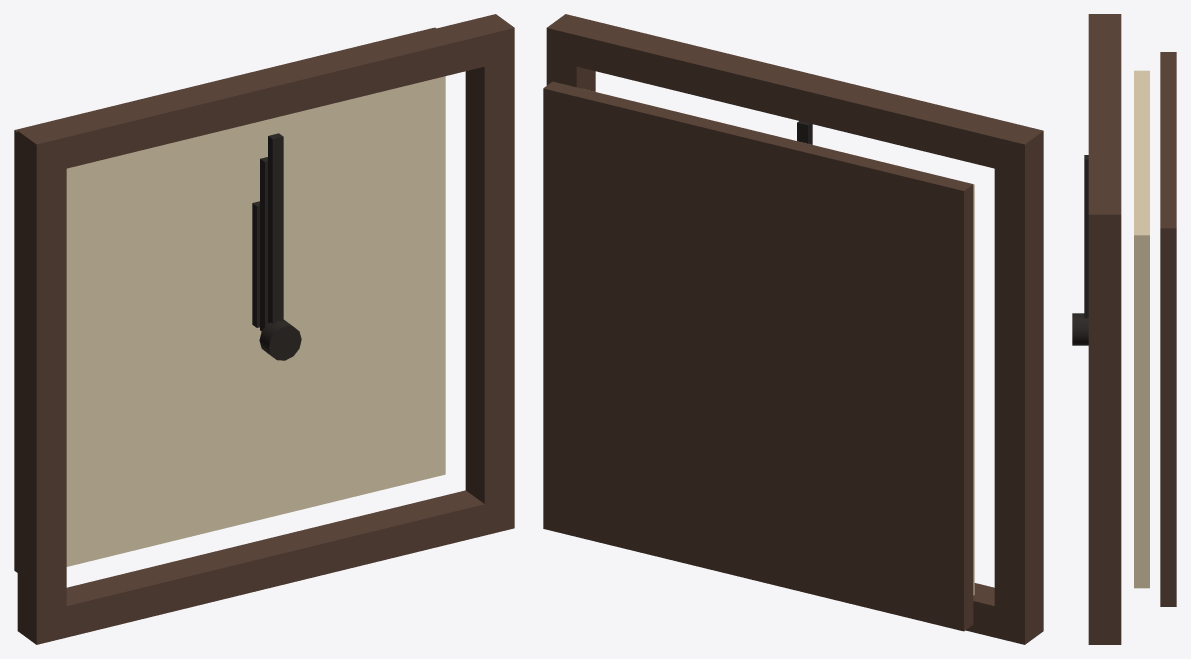
3 renders of one model, left to right at view 1: azimuth 30°, elevation 25°; view 2: azimuth 150°, elevation 25°; view 3: azimuth 270°, elevation 25°, orthographic. The views are drawn at different scales.
Visible parts, largest first — view 1: clock-face, clock-square-top, clock-square-bottom, clock-square-left, clock-square-right, clock-second-hand, clock-back, clock-minute-hand, clock-center-cap, clock-hour-hand; view 2: clock-back, clock-square-top, clock-square-left, clock-square-bottom, clock-square-right, clock-face; view 3: clock-square-right, clock-back, clock-face, clock-square-top, clock-square-bottom, clock-second-hand, clock-center-cap.
Boxes of the visible parts, x1,y1,x2,y2 form: clock-face: [66, 76, 445, 566]; clock-square-top: [17, 14, 514, 175]; clock-square-bottom: [17, 490, 514, 644]; clock-square-left: [17, 162, 66, 613]; clock-square-right: [465, 59, 514, 503]; clock-second-hand: [268, 133, 283, 323]; clock-back: [14, 27, 435, 572]; clock-minute-hand: [260, 157, 267, 331]; clock-center-cap: [259, 320, 301, 360]; clock-hour-hand: [252, 201, 259, 327]; clock-back: [543, 81, 973, 631]; clock-square-top: [546, 14, 1043, 175]; clock-square-left: [994, 162, 1043, 613]; clock-square-bottom: [965, 583, 1043, 644]; clock-square-right: [546, 59, 595, 91]; clock-face: [973, 184, 974, 595]; clock-square-right: [1088, 241, 1121, 617]; clock-back: [1160, 52, 1176, 606]; clock-face: [1134, 70, 1149, 588]; clock-square-top: [1088, 14, 1121, 241]; clock-square-bottom: [1088, 618, 1121, 644]; clock-second-hand: [1084, 155, 1088, 318]; clock-center-cap: [1072, 313, 1088, 345].
Size of the model in its own units: 0.35 by 0.35 by 0.077.
